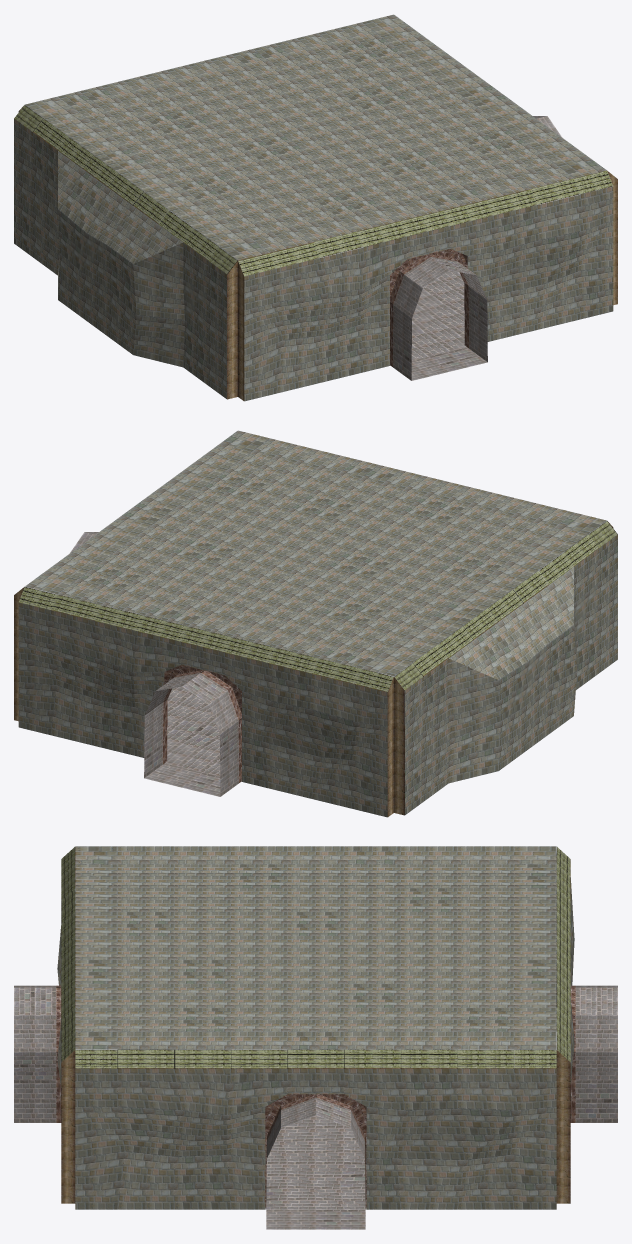
Rendered from map50MNSW.fbx.
3 views of the same model, one above another, from view 1: azimuth 30°, elevation 25°; view 2: azimuth 150°, elevation 25°; view 3: azimuth 270°, elevation 25° (orthographic). The views are drawn at different scales.
Visible parts, largest first — view 1: map50MNSW_Layer1_roof, map50MNSW_Layer1_far, map50MNSW_Layer1_right, map50MNSW_Layer2, map50MNSW_Layer3, map50MNSW_Layer1_floor2, map50MNSW_Layer6, map50MNSW_Layer5; view 2: map50MNSW_Layer1_roof, map50MNSW_Layer1_near, map50MNSW_Layer1_right, map50MNSW_Layer2, map50MNSW_Layer3, map50MNSW_Layer1_floor2, map50MNSW_Layer6, map50MNSW_Layer5; view 3: map50MNSW_Layer1_roof, map50MNSW_Layer1_left, map50MNSW_Layer3, map50MNSW_Layer2, map50MNSW_Layer1_floor2, map50MNSW_Layer6, map50MNSW_Layer5, map50MNSW_Layer1_near.
Boxes of the visible parts, x1=… form: map50MNSW_Layer1_roof: x1=25, y1=14, x2=606, y2=260; map50MNSW_Layer1_far: x1=244, y1=186, x2=613, y2=401; map50MNSW_Layer1_right: x1=14, y1=119, x2=226, y2=398; map50MNSW_Layer2: x1=14, y1=105, x2=613, y2=276; map50MNSW_Layer3: x1=393, y1=116, x2=561, y2=380; map50MNSW_Layer1_floor2: x1=390, y1=270, x2=466, y2=365; map50MNSW_Layer6: x1=18, y1=106, x2=617, y2=400; map50MNSW_Layer5: x1=390, y1=249, x2=468, y2=366; map50MNSW_Layer1_roof: x1=25, y1=430, x2=606, y2=676; map50MNSW_Layer1_near: x1=18, y1=602, x2=387, y2=817; map50MNSW_Layer1_right: x1=405, y1=535, x2=617, y2=814; map50MNSW_Layer2: x1=18, y1=521, x2=617, y2=692; map50MNSW_Layer3: x1=70, y1=532, x2=238, y2=796; map50MNSW_Layer1_floor2: x1=165, y1=686, x2=241, y2=781; map50MNSW_Layer6: x1=14, y1=522, x2=613, y2=816; map50MNSW_Layer5: x1=163, y1=665, x2=241, y2=782; map50MNSW_Layer1_roof: x1=75, y1=846, x2=556, y2=1049; map50MNSW_Layer1_left: x1=75, y1=1068, x2=556, y2=1209; map50MNSW_Layer3: x1=14, y1=985, x2=617, y2=1229; map50MNSW_Layer2: x1=61, y1=847, x2=570, y2=1068; map50MNSW_Layer1_floor2: x1=265, y1=1115, x2=366, y2=1209; map50MNSW_Layer6: x1=61, y1=1050, x2=570, y2=1203; map50MNSW_Layer5: x1=56, y1=985, x2=575, y2=1207; map50MNSW_Layer1_near: x1=570, y1=877, x2=574, y2=1084.
Bounding box in the file's own units: 0.9756 × 0.2812 × 1.
